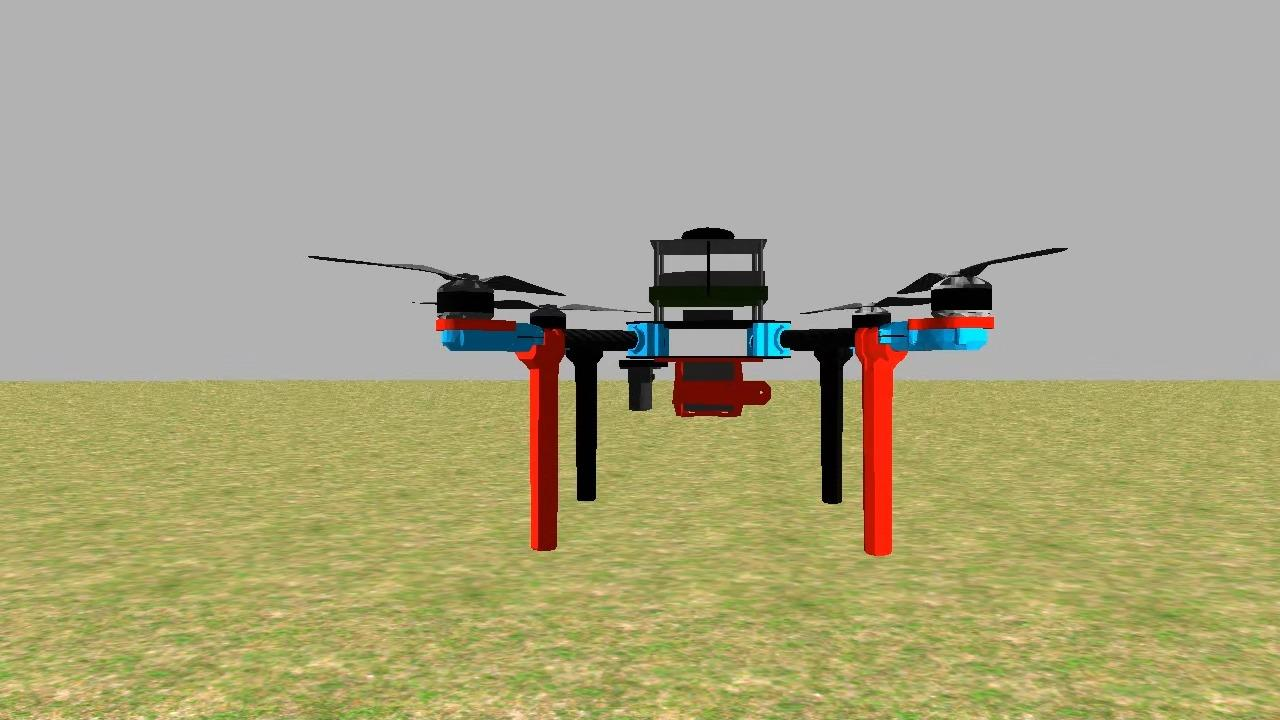UAV: (427, 209, 1005, 579)
